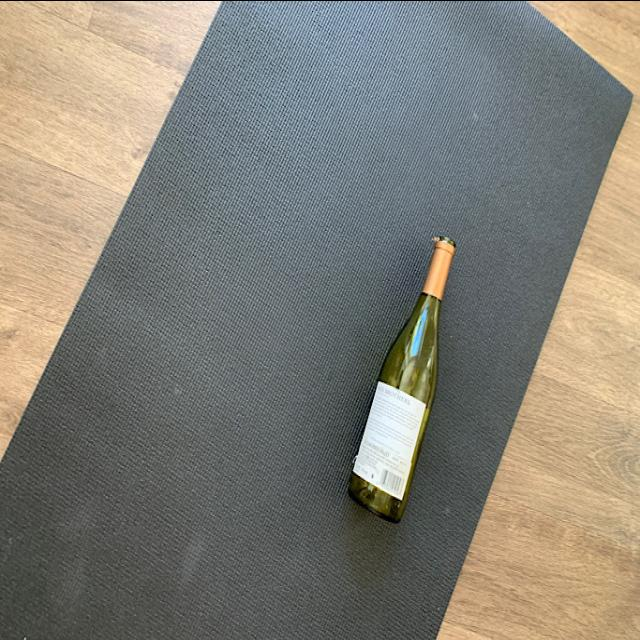litter: (347, 232, 457, 532)
